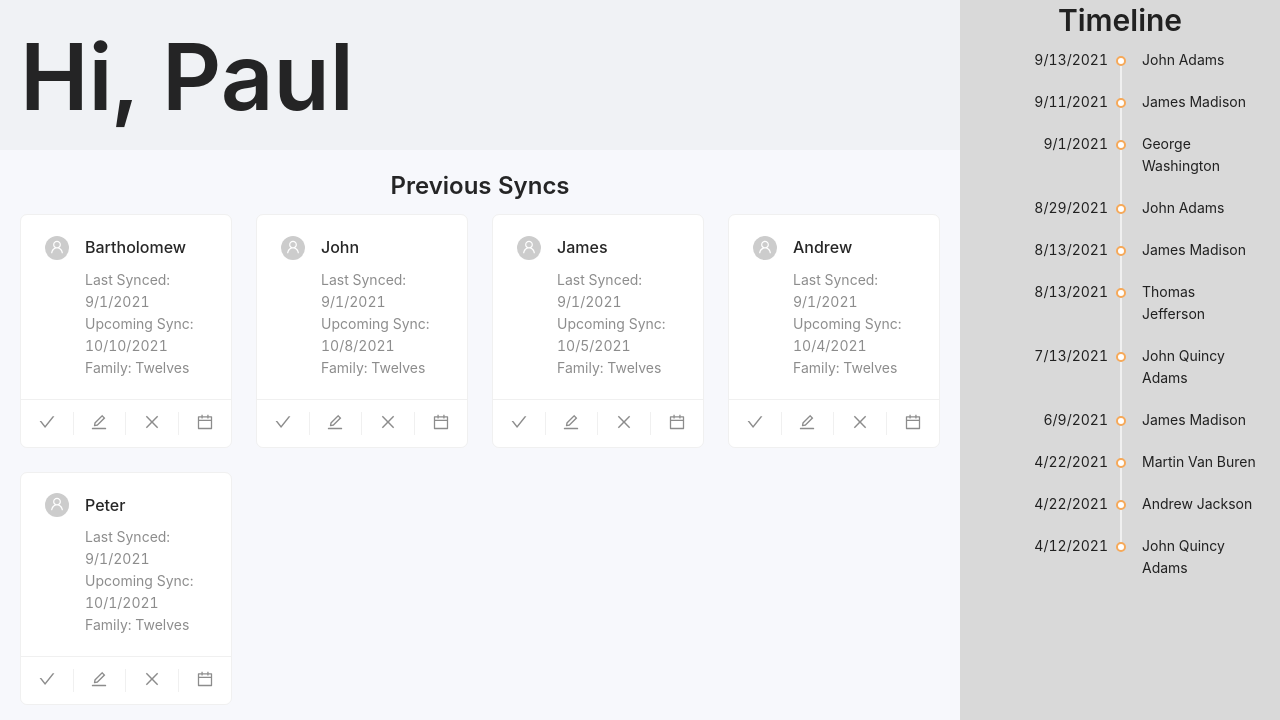
it: remove previous sync when clicking decline btn
The image size is (1280, 720).
Expected: the text "Bartholomew" is shown, x1=85 y1=237 x2=186 y2=257
Click the picture named "close" below "Bartholomew".
click(152, 422)  # box x1=144 y1=414 x2=160 y2=430
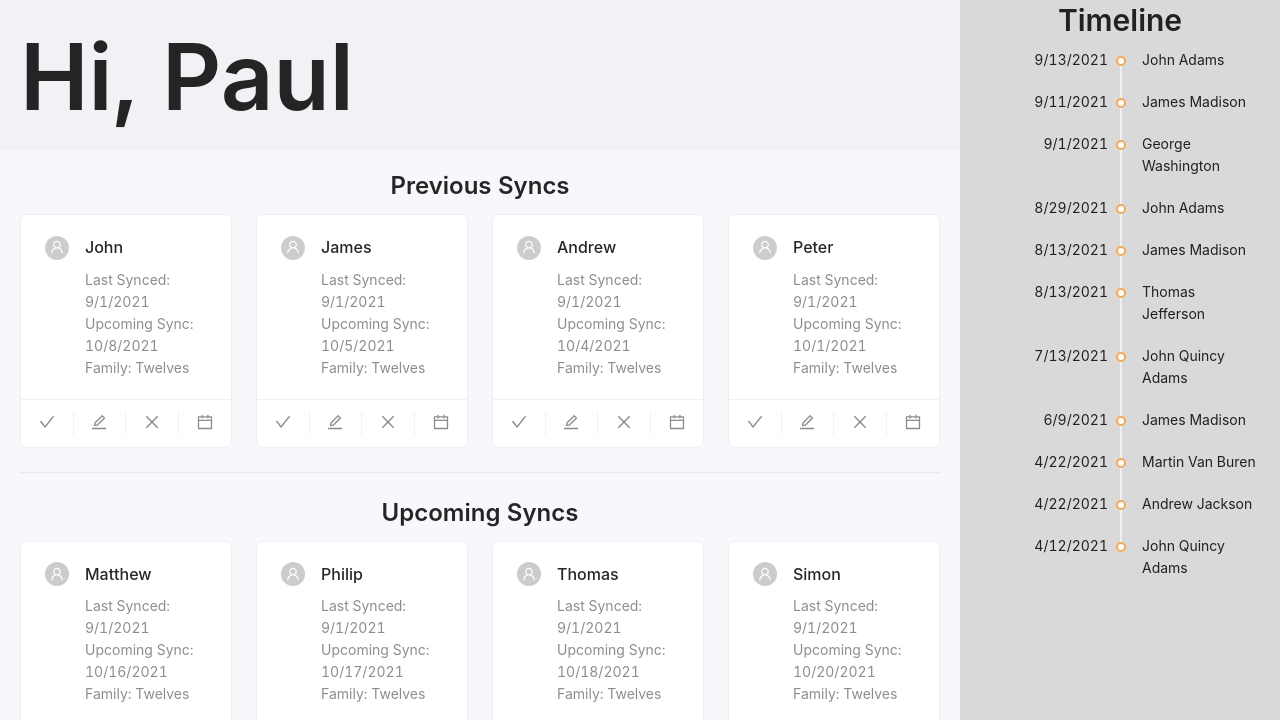
Now the text "Bartholomew" is gone
